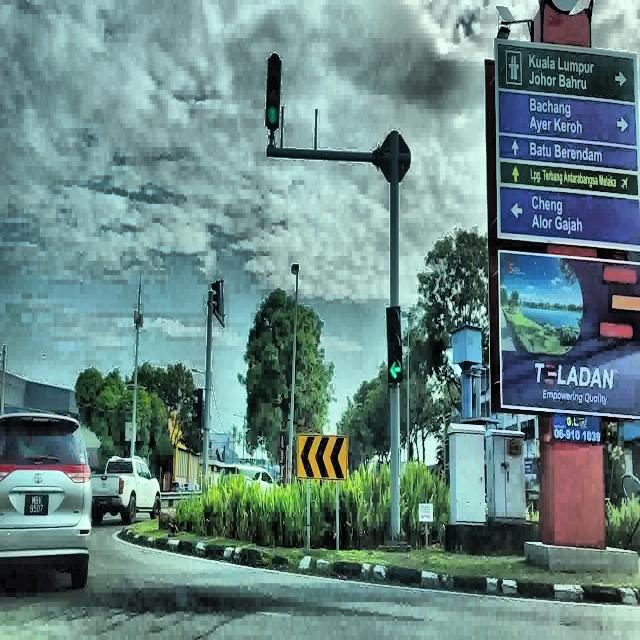green: (265, 53, 282, 130), (386, 306, 402, 383)
